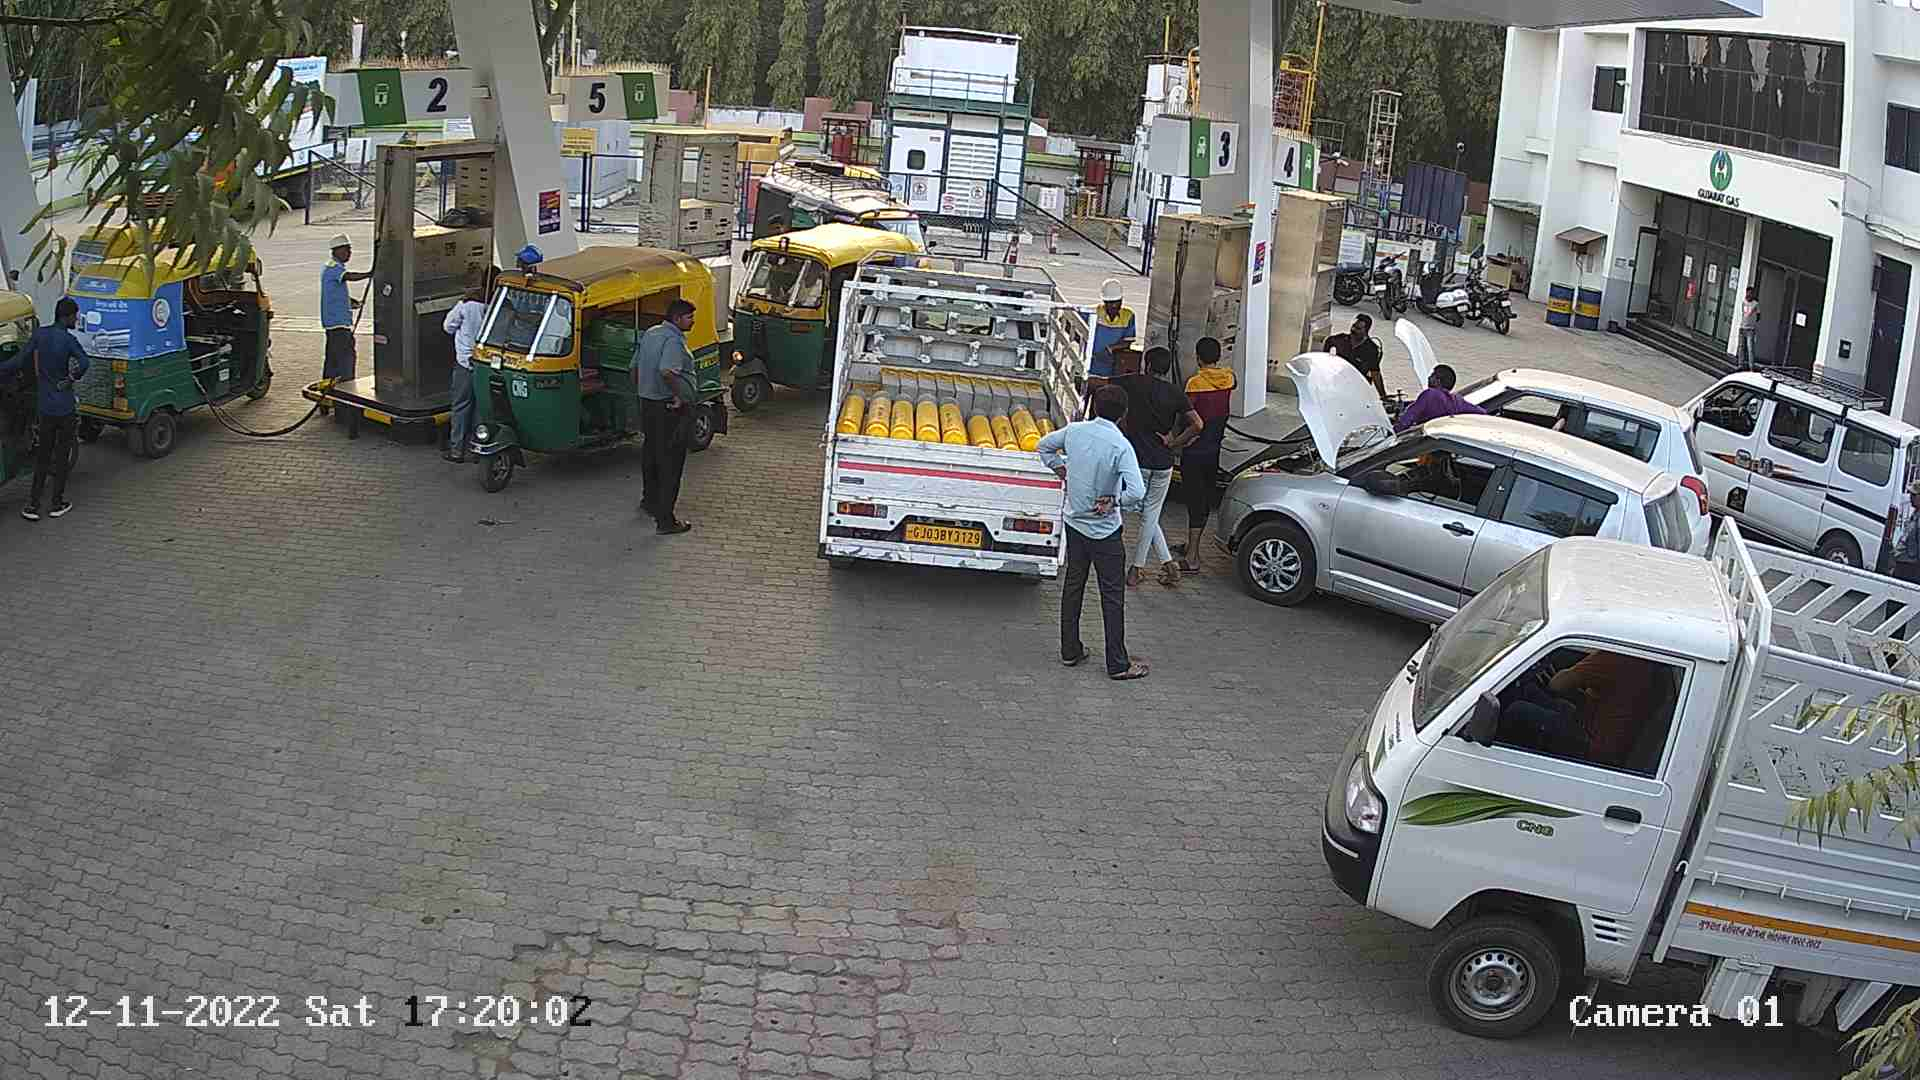Auto: (460, 241, 740, 497), (45, 233, 280, 471), (715, 215, 926, 411), (741, 144, 938, 272), (57, 200, 266, 299), (0, 269, 53, 504)
Bike: (1456, 243, 1520, 340), (1411, 247, 1476, 328), (1371, 243, 1429, 318), (1321, 247, 1379, 309)
Car: (1305, 506, 1917, 1076), (1207, 345, 1721, 629), (807, 237, 1110, 596), (1371, 313, 1722, 563), (1669, 356, 1917, 591)
Others: (1068, 274, 1141, 393), (311, 227, 367, 375), (510, 231, 558, 273)
